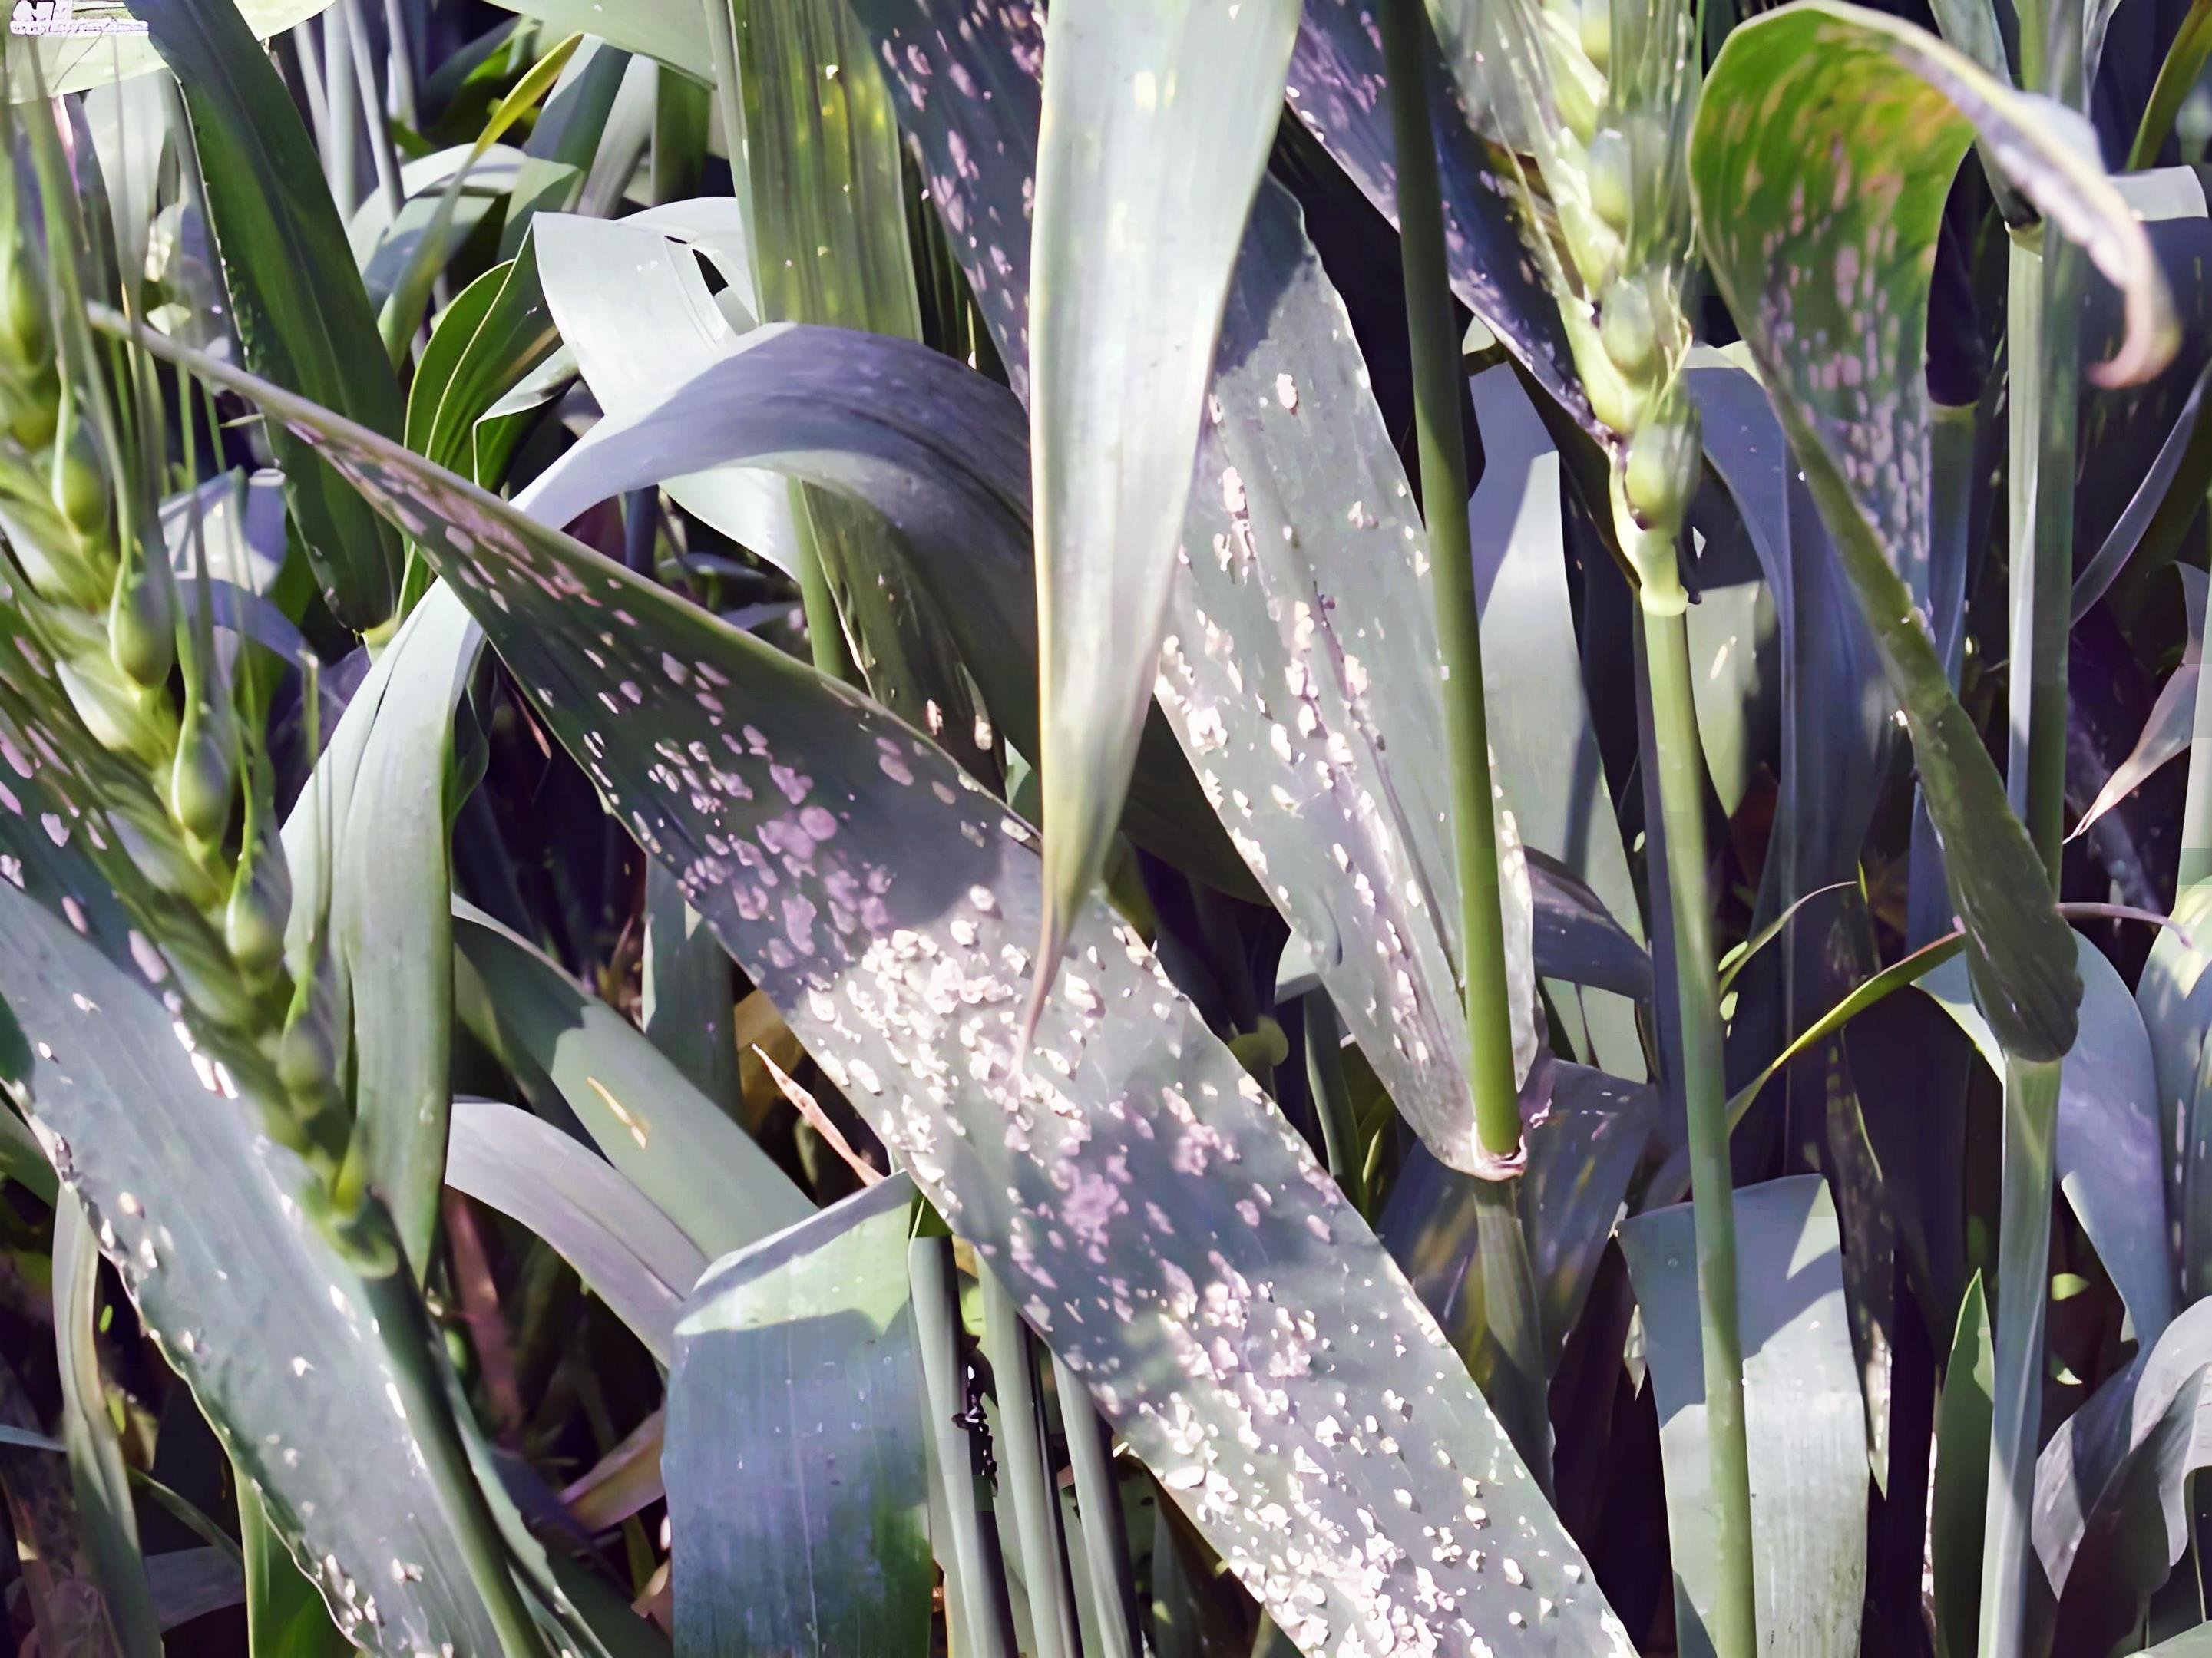Powdery Mildew: (641, 728, 1527, 1649)
